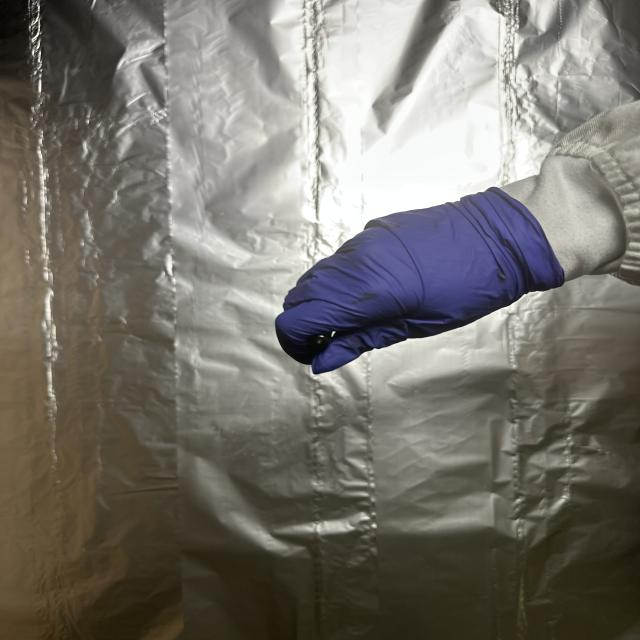gloves_contaminated: (275, 188, 564, 373)
